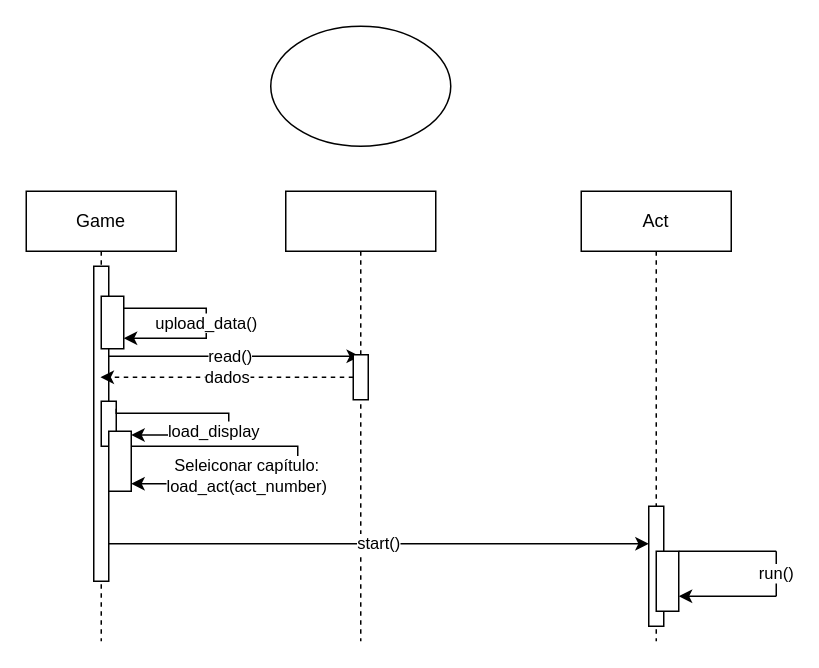
This 819x668 diagram has some shape labels left out. Here are the shapes that lost their labels. From the top down, the centre of each, then its label:
At point 360,85: "Iniciar Jogo".
At point 360,415: "DataRecord".
